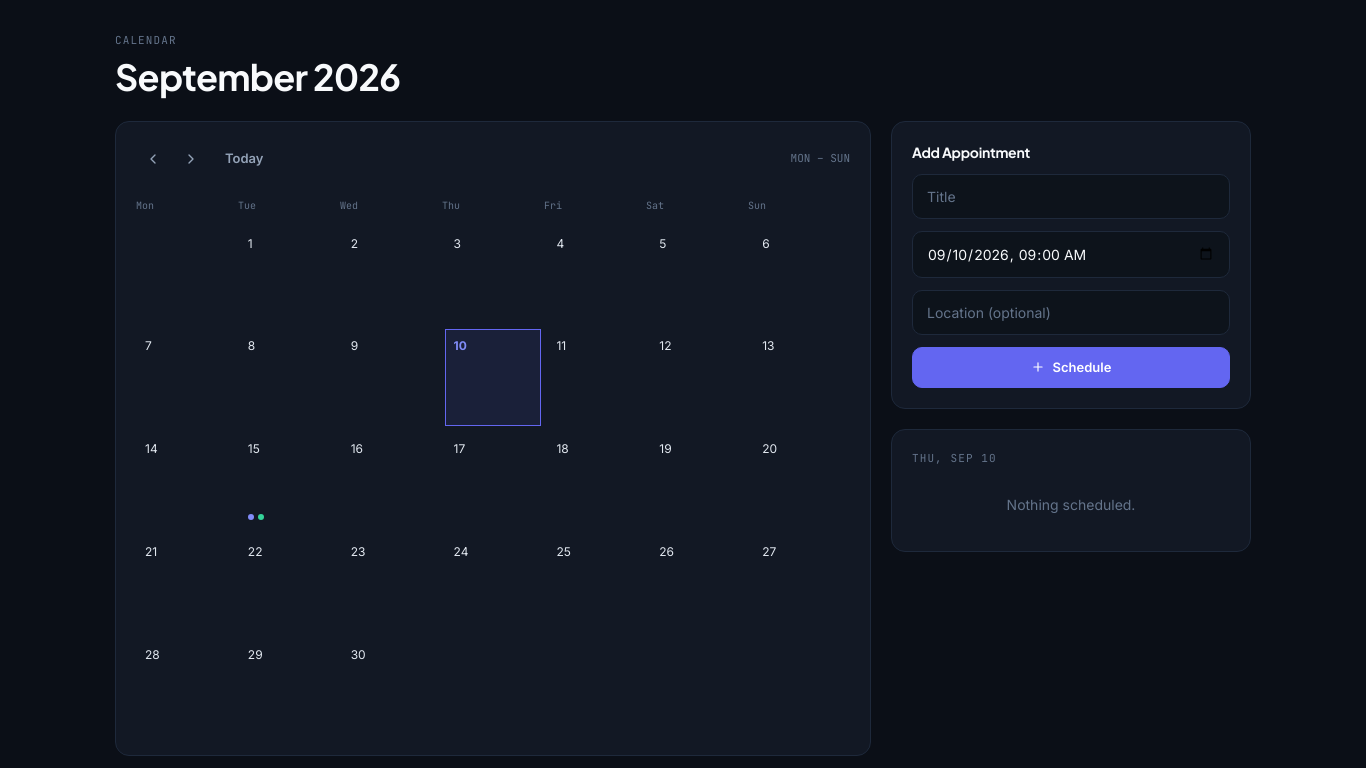
Calendar Page › deletes an appointment
Click the button with test id "cal-day-15" at [287, 481], box 239,432 -> 336,529
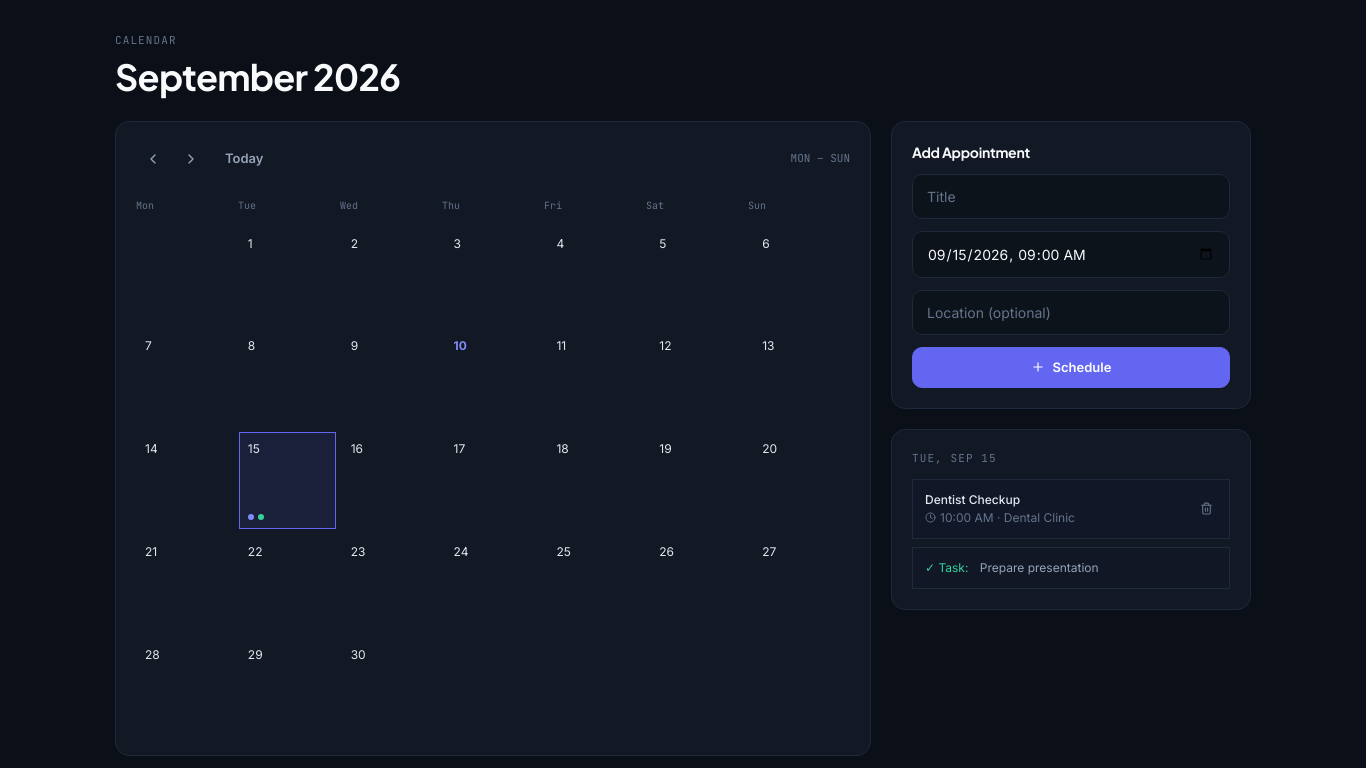
Expected: the button with test id "delete-appt-a1" is shown
Click the button with test id "delete-appt-a1" at [1206, 508], box 1196,498 -> 1217,519
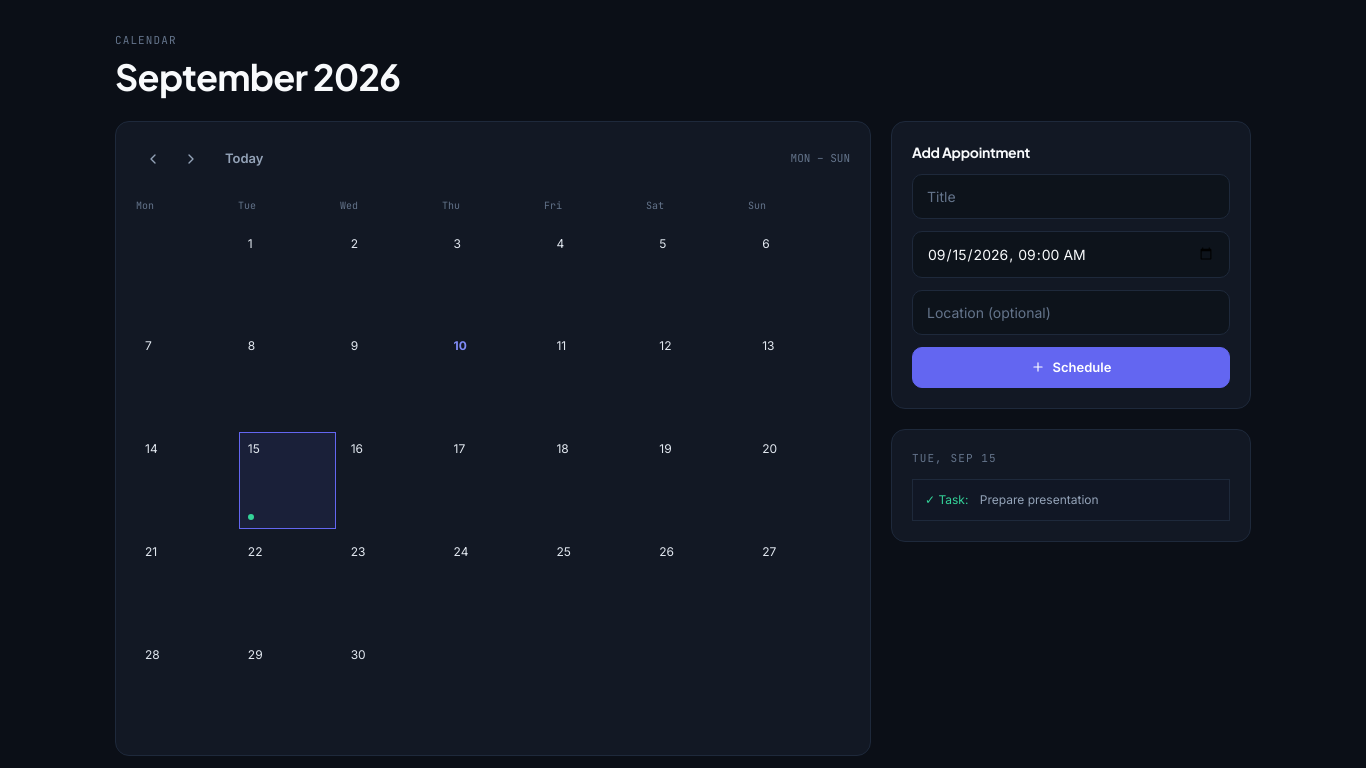
Expected: the text with test id "selected-day-events" no longer shows "Dentist Checkup"
